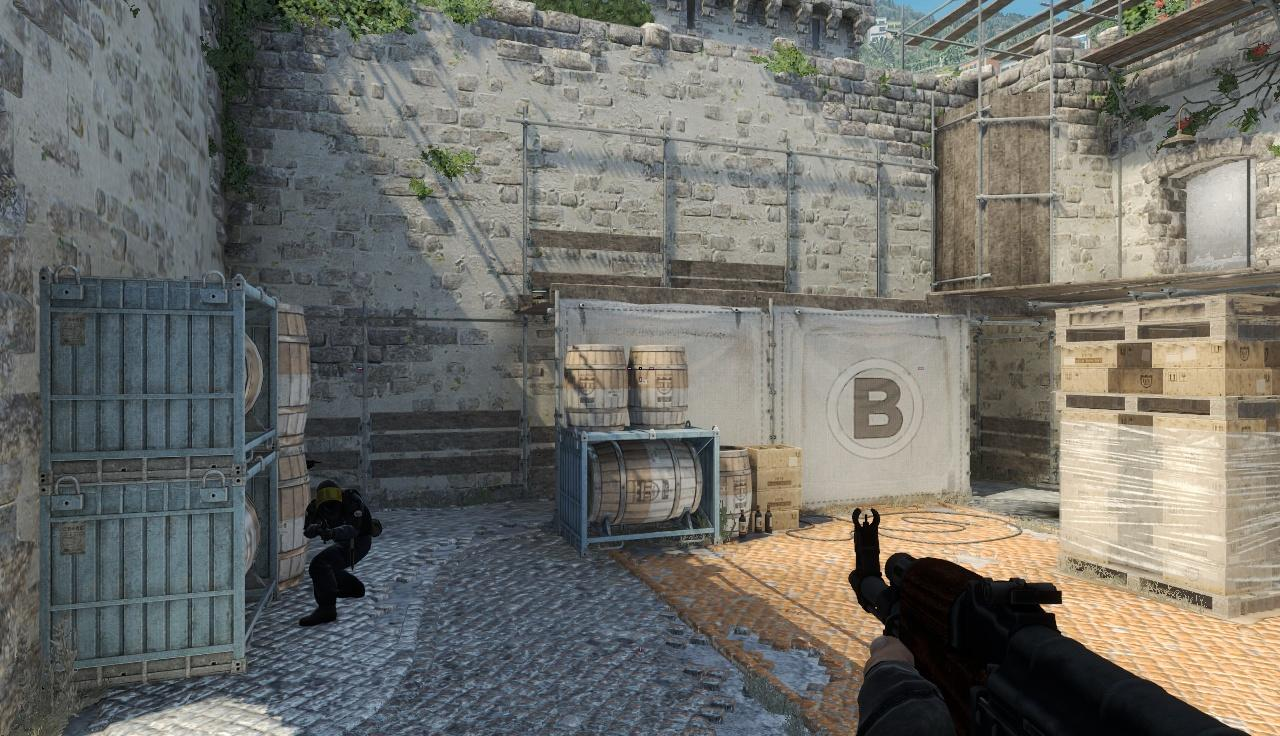ct: (304, 480, 370, 626)
cthead: (318, 480, 347, 509)
rifle: (854, 513, 1280, 736)
